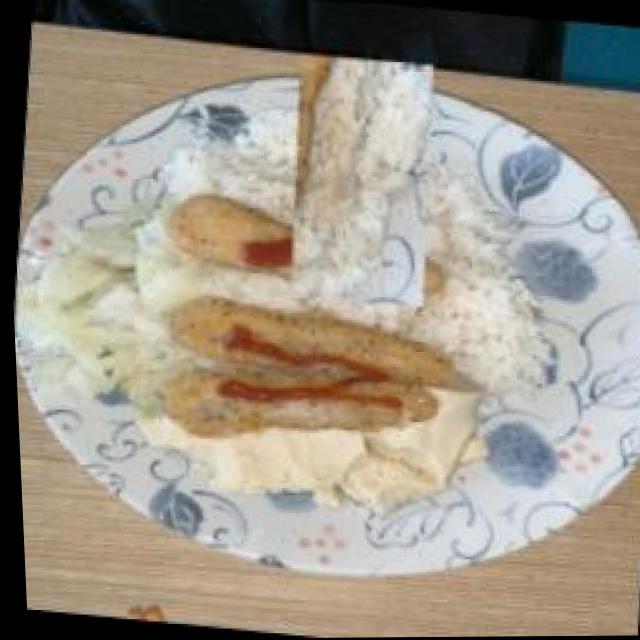chinese_cabbage: (6, 179, 184, 413)
rice: (251, 75, 468, 287)
